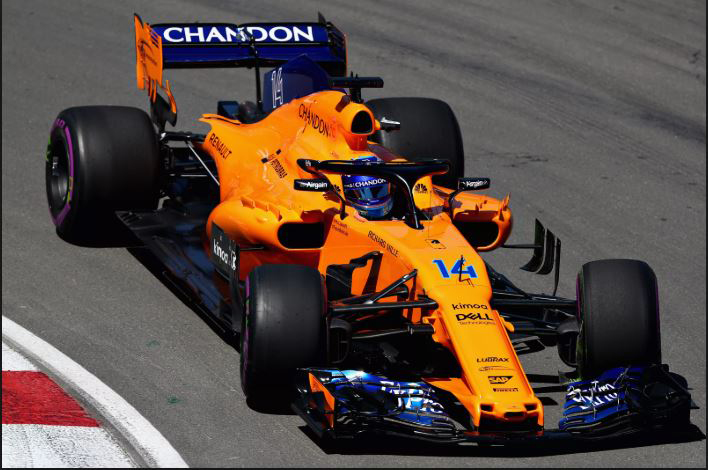F1 Car: (38, 9, 702, 445)
